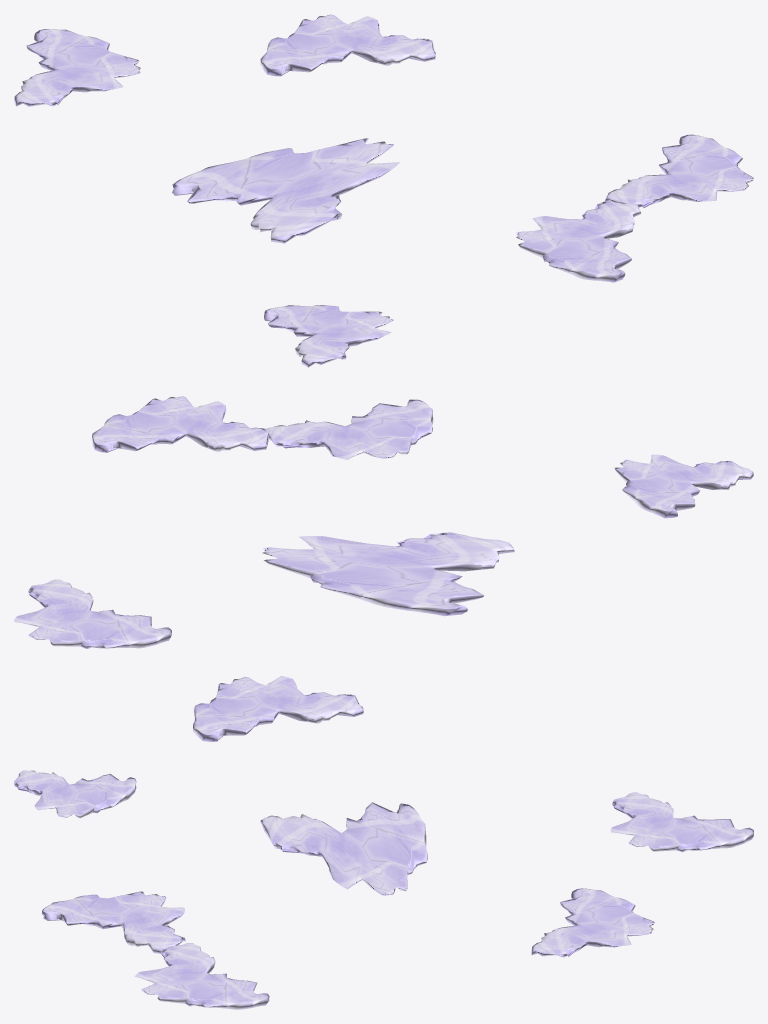
Rendered from LV7Ice.fbx.
3 views of the same model, one above another, from view 1: azimuth 30°, elevation 25°; view 2: azimuth 150°, elevation 25°; view 3: azimuth 270°, elevation 25° (orthographic). The views are drawn at different scales.
Parts seen in each view (by area): view 1: RockWalkway_24; view 2: RockWalkway_24; view 3: RockWalkway_24.
Part boxes in pixels (bbox=[...]): RockWalkway_24: bbox=[14, 14, 753, 367]; RockWalkway_24: bbox=[14, 396, 753, 741]; RockWalkway_24: bbox=[14, 770, 753, 1009].
Size of the model in its own units: 164 by 2.3 by 216.
